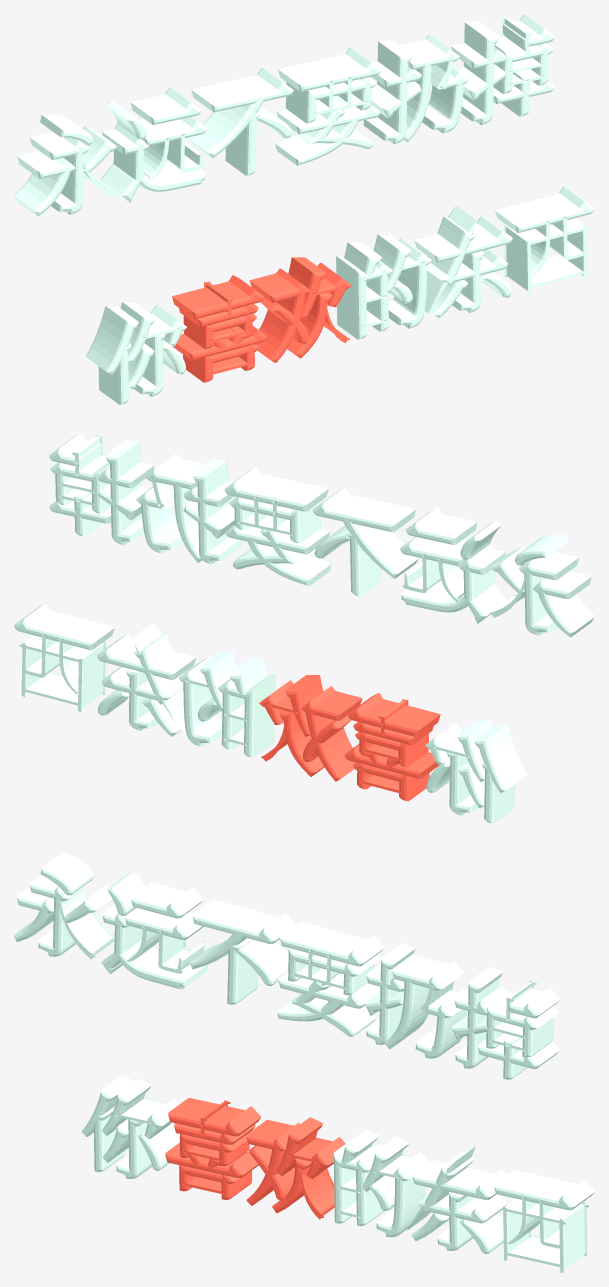
File: computer-inspiration-note-optimized.glb
3 renders of one model, top to bottom at view 1: azimuth 30°, elevation 25°; view 2: azimuth 150°, elevation 25°; view 3: azimuth 330°, elevation 25°, orthographic.
Visible parts, largest first — view 1: Idea_Line_01, Idea_Line_02; view 2: Idea_Line_01, Idea_Line_02; view 3: Idea_Line_01, Idea_Line_02.
Part boxes in pixels (x1,y1,x2,y2): Idea_Line_01: (14, 14, 594, 404); Idea_Line_02: (172, 257, 351, 382); Idea_Line_01: (14, 433, 594, 823); Idea_Line_02: (259, 675, 440, 801); Idea_Line_01: (14, 852, 594, 1272); Idea_Line_02: (165, 1098, 345, 1219).
Size of the model in its own units: 2.31 by 1.13 by 0.186.
